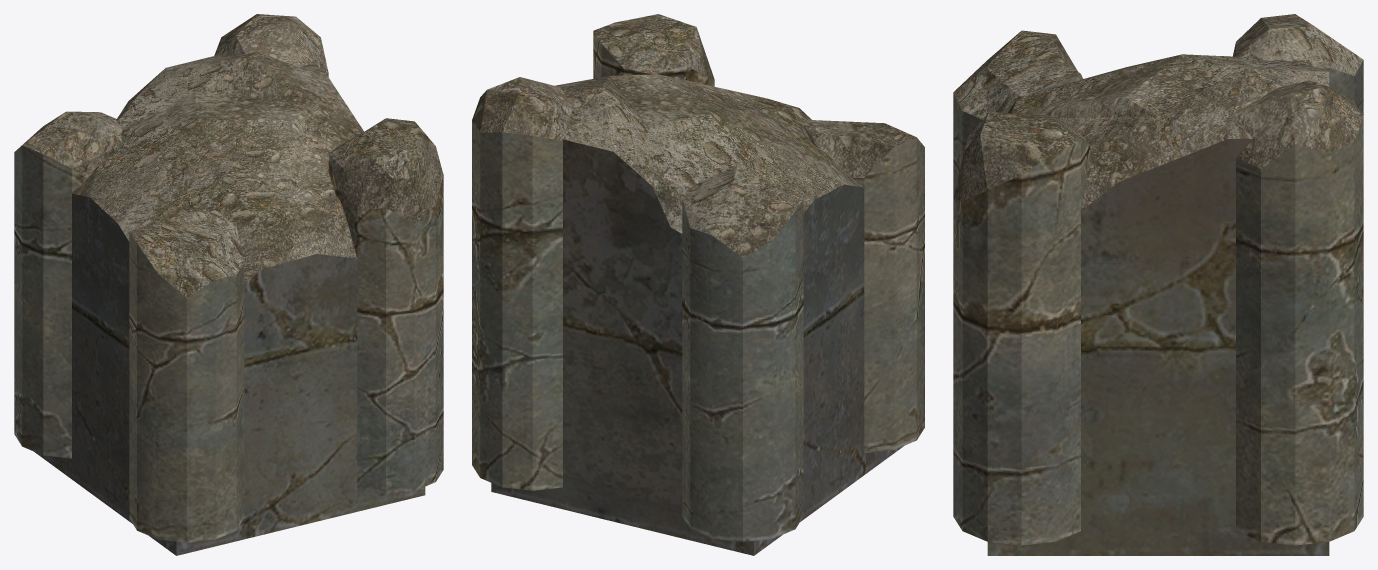
The model's file is bg_lut_lutomb_pillar08e_sm_old.FBX.
3 renders of one model, left to right at view 1: azimuth 30°, elevation 25°; view 2: azimuth 150°, elevation 25°; view 3: azimuth 270°, elevation 25°, orthographic. The views are drawn at different scales.
Visible parts, largest first — view 1: bg_lut_lutomb_pillar08e_sm_old; view 2: bg_lut_lutomb_pillar08e_sm_old; view 3: bg_lut_lutomb_pillar08e_sm_old.
Part boxes in pixels (<box>): bg_lut_lutomb_pillar08e_sm_old: <box>14,14,443,555</box>; bg_lut_lutomb_pillar08e_sm_old: <box>472,14,924,555</box>; bg_lut_lutomb_pillar08e_sm_old: <box>953,14,1363,555</box>.
Bounding box in the file's own units: 120 × 147 × 120.
